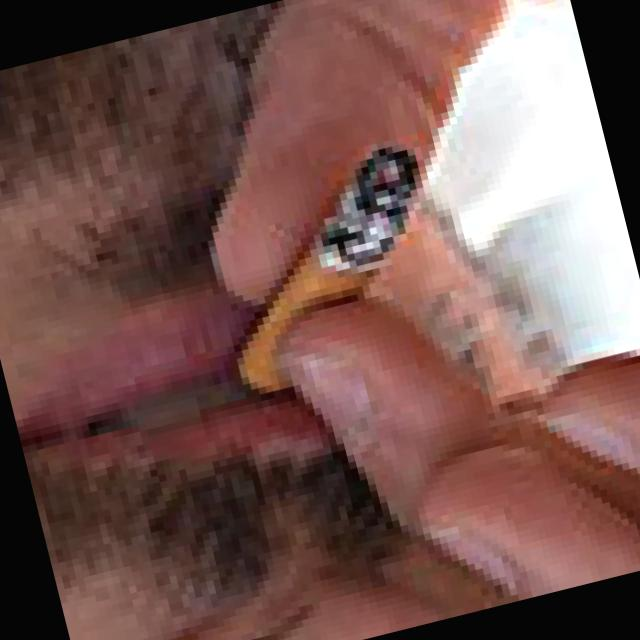cigarette: (302, 134, 441, 296)
